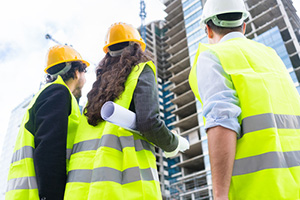hard hat: (102, 23, 146, 54), (198, 1, 251, 26), (44, 45, 89, 72)
high-vis: (188, 38, 299, 200), (67, 59, 161, 200), (4, 80, 80, 200)
